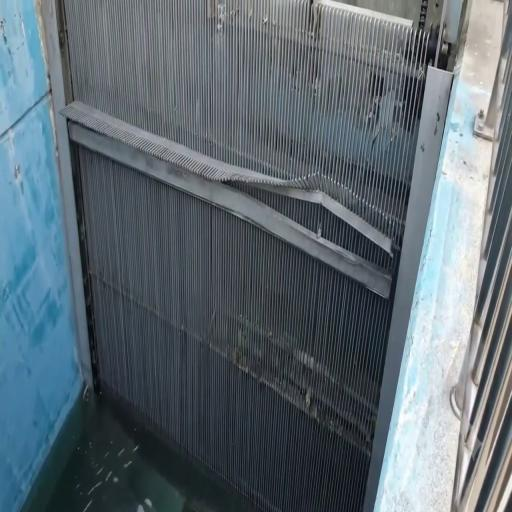rake_broken: (191, 160, 417, 268)
